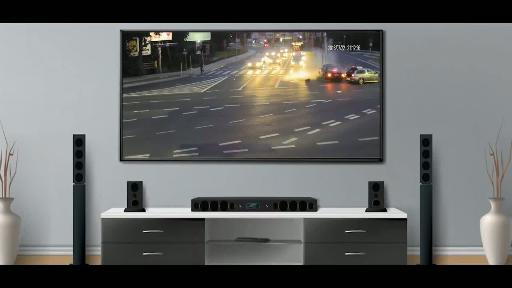Accident: (319, 62, 382, 88)
